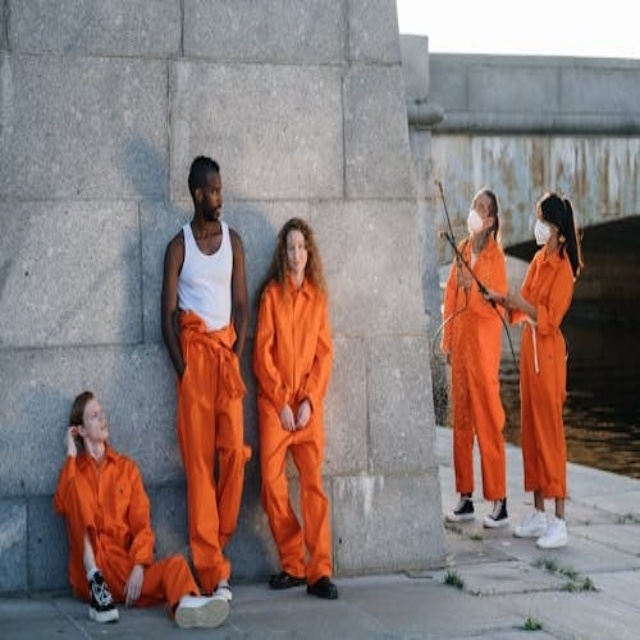Mascara: (467, 208, 488, 234), (534, 219, 554, 246)
Sin_guantes: (120, 563, 148, 607), (480, 285, 505, 307), (63, 421, 79, 452), (294, 402, 311, 427), (280, 405, 295, 430), (460, 274, 471, 290)
Sin_mascara: (211, 203, 223, 212)
